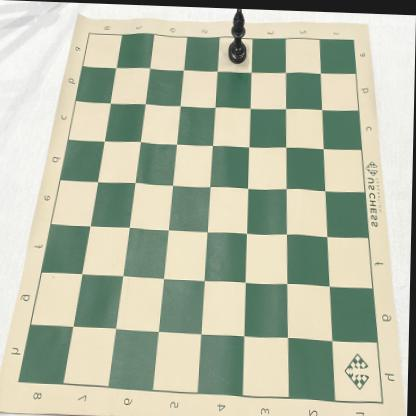black-bishop: (228, 7, 248, 63)
